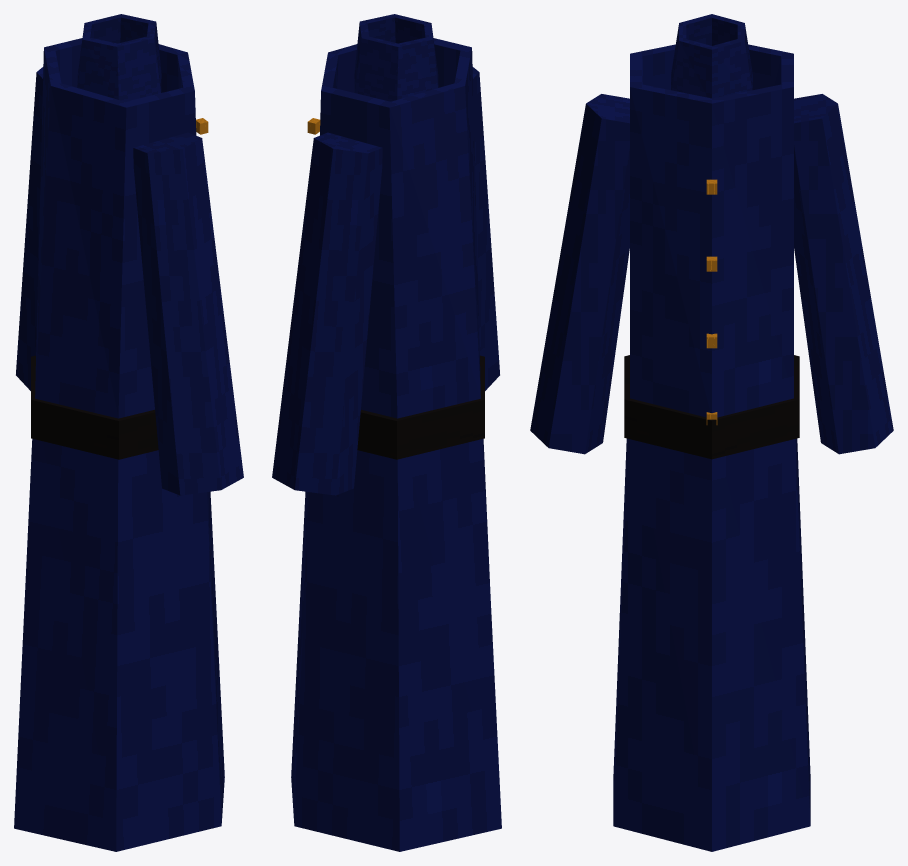
The model's file is uniforme_imperial.glb.
3 views of the same model, side by side, from view 1: azimuth 30°, elevation 25°; view 2: azimuth 150°, elevation 25°; view 3: azimuth 270°, elevation 25° (orthographic).
Parts seen in each view (by area): view 1: cuerpo, pecho, manga_der, cuello, cinturon, manga_izq; view 2: cuerpo, pecho, manga_izq, cuello, cinturon, manga_der; view 3: cuerpo, pecho, manga_izq, manga_der, cinturon, cuello.
Part boxes in pixels (bbox=[...]): cuerpo: bbox=[14, 438, 224, 851]; pecho: bbox=[35, 38, 196, 418]; manga_der: bbox=[133, 132, 243, 495]; cuello: bbox=[77, 14, 161, 101]; cinturon: bbox=[31, 355, 158, 459]; manga_izq: bbox=[16, 67, 43, 390]; cuerpo: bbox=[291, 438, 501, 851]; pecho: bbox=[320, 38, 480, 418]; manga_izq: bbox=[272, 132, 382, 495]; cuello: bbox=[354, 14, 438, 101]; cinturon: bbox=[357, 355, 484, 459]; manga_der: bbox=[472, 67, 499, 390]; cuerpo: bbox=[613, 438, 810, 851]; pecho: bbox=[630, 44, 793, 417]; manga_izq: bbox=[794, 94, 893, 454]; manga_der: bbox=[530, 94, 629, 454]; cinturon: bbox=[624, 355, 799, 459]; cuello: bbox=[671, 14, 752, 98].
Size of the model in its own units: 0.4 by 1.4 by 0.6.
1 material, 1 textured.
